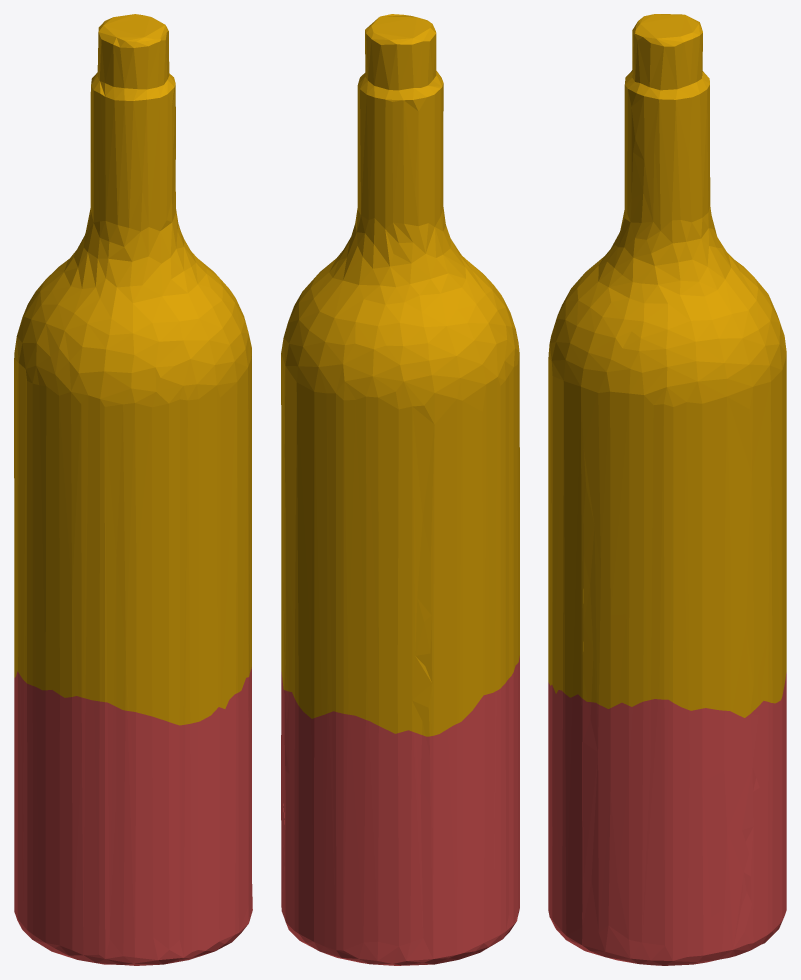
The model's file is fractured_59_2pcs.glb.
3 renders of one model, left to right at view 1: azimuth 30°, elevation 25°; view 2: azimuth 150°, elevation 25°; view 3: azimuth 270°, elevation 25°, orthographic.
Visible parts, largest first — view 1: piece_0.obj, piece_1.obj; view 2: piece_0.obj, piece_1.obj; view 3: piece_0.obj, piece_1.obj.
Part boxes in pixels (bbox=[...]): piece_0.obj: bbox=[14, 14, 251, 725]; piece_1.obj: bbox=[14, 667, 252, 965]; piece_0.obj: bbox=[281, 14, 519, 736]; piece_1.obj: bbox=[281, 656, 519, 965]; piece_0.obj: bbox=[548, 14, 786, 717]; piece_1.obj: bbox=[548, 672, 786, 965].
Bounding box in the file's own units: 0.2415 × 1 × 0.2415.
